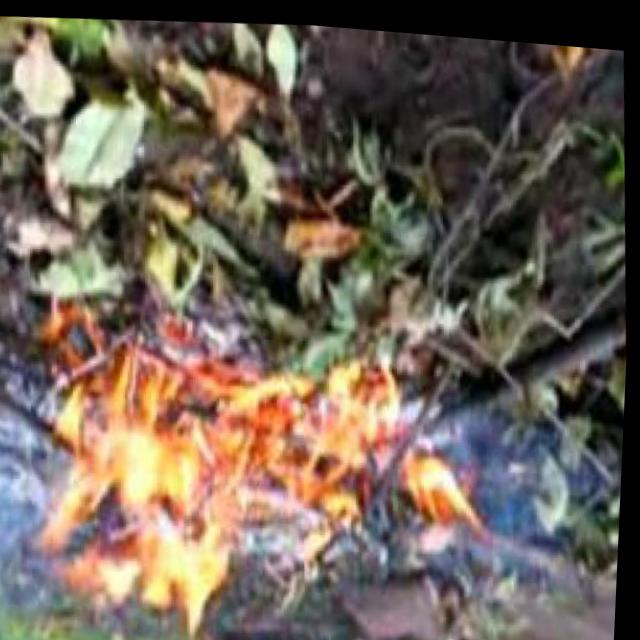Fire: (29, 331, 482, 640)
